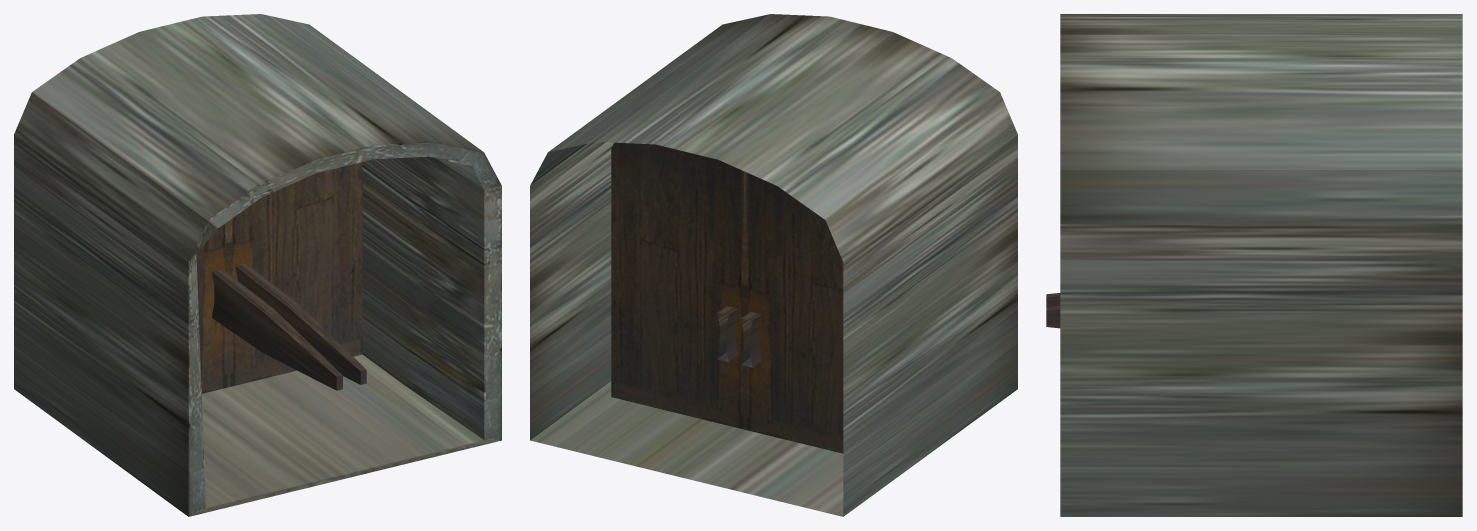
File: barndoor.obj
3 views of the same model, side by side, from view 1: azimuth 30°, elevation 25°; view 2: azimuth 150°, elevation 25°; view 3: azimuth 270°, elevation 25° (orthographic). The views are drawn at different scales.
Parts seen in each view (by area): view 1: Cylinder003; view 2: Cylinder003; view 3: Cylinder003.
Boxes of the visible parts, x1=… form: Cylinder003: x1=14, y1=14, x2=501, y2=516; Cylinder003: x1=530, y1=14, x2=1017, y2=516; Cylinder003: x1=1046, y1=14, x2=1462, y2=516.
Bounding box in the file's own units: 12.8 × 12.76 × 12.79.
